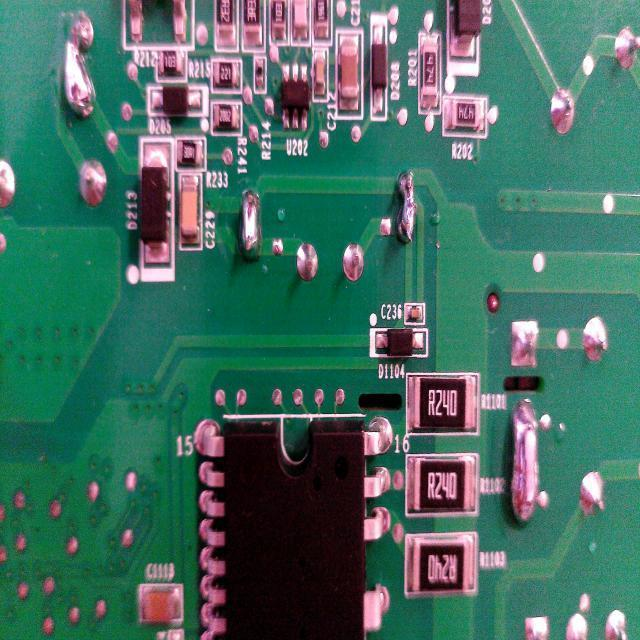Soldering shorted: (508, 394, 542, 535), (61, 12, 98, 122), (234, 188, 264, 266), (395, 170, 420, 251)
